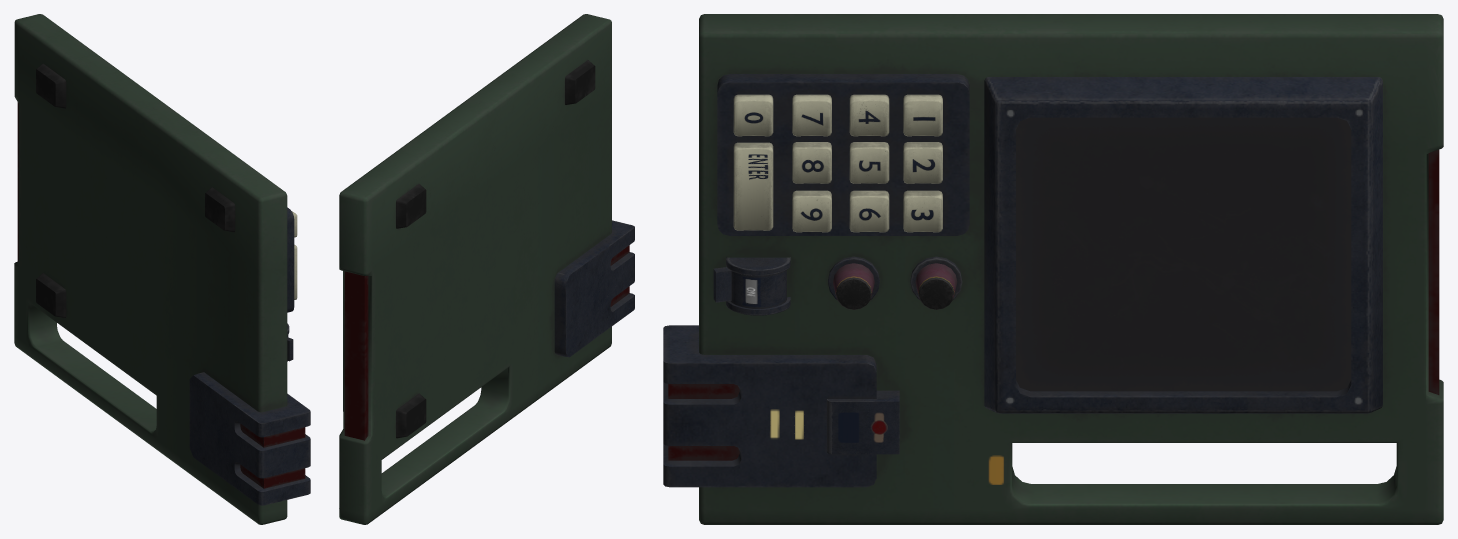
File: Data Pad.fbx
3 renders of one model, left to right at view 1: azimuth 30°, elevation 25°; view 2: azimuth 150°, elevation 25°; view 3: azimuth 270°, elevation 25°, orthographic. The views are drawn at different scales.
Parts seen in each view (by area): view 1: Data Pad; view 2: Data Pad; view 3: Data Pad.
Part boxes in pixels (x1,y1,x2,y2): Data Pad: [14, 14, 310, 524]; Data Pad: [339, 14, 634, 524]; Data Pad: [663, 14, 1443, 524].
Bounding box in the file's own units: 0.8048 × 0.5621 × 0.1092.
